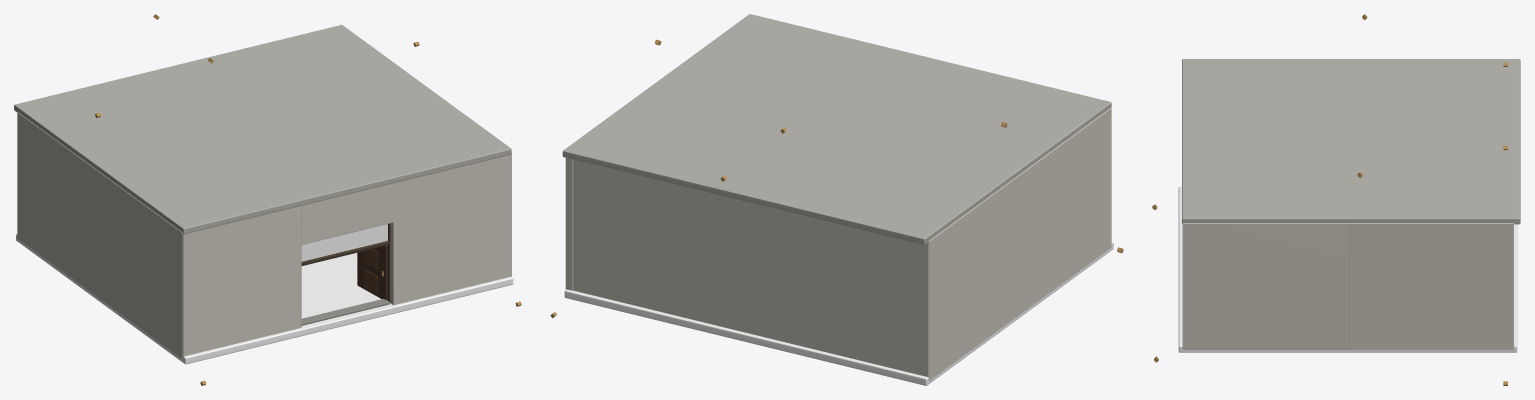
Rendered from RIFKI_Portfolio_Museum.glb.
3 renders of one model, left to right at view 1: azimuth 30°, elevation 25°; view 2: azimuth 150°, elevation 25°; view 3: azimuth 270°, elevation 25°, orthographic. The views are drawn at different scales.
Visible parts, largest first — view 1: Ceiling, Left gallery wall, Front entrance wall | right wing, Front entrance wall | left wing, Gallery floor, Front wall header above entrance, Glazed transom, Open walnut door | right, Stone door threshold, Entrance lintel | over doors; view 2: Ceiling, Rear gallery wall, Left gallery wall, Gallery floor, Right return wall; view 3: Ceiling, Right gallery wall | entrance closure, Right return wall, Gallery floor.
Boxes of the visible parts, x1=… form: Ceiling: x1=14, y1=25, x2=511, y2=234; Left gallery wall: x1=17, y1=112, x2=182, y2=359; Front entrance wall | right wing: x1=390, y1=154, x2=511, y2=305; Front entrance wall | left wing: x1=183, y1=206, x2=301, y2=356; Gallery floor: x1=16, y1=234, x2=513, y2=364; Front wall header above entrance: x1=301, y1=183, x2=393, y2=244; Glazed transom: x1=301, y1=224, x2=387, y2=261; Open walnut door | right: x1=357, y1=245, x2=387, y2=299; Stone door threshold: x1=301, y1=299, x2=390, y2=325; Entrance lintel | over doors: x1=301, y1=241, x2=389, y2=265; Ceiling: x1=562, y1=14, x2=1111, y2=244; Rear gallery wall: x1=573, y1=159, x2=928, y2=377; Left gallery wall: x1=929, y1=107, x2=1111, y2=380; Gallery floor: x1=564, y1=242, x2=1113, y2=385; Right return wall: x1=565, y1=158, x2=573, y2=290; Ceiling: x1=1182, y1=59, x2=1520, y2=224; Right gallery wall | entrance closure: x1=1182, y1=223, x2=1349, y2=349; Right return wall: x1=1349, y1=223, x2=1513, y2=349; Gallery floor: x1=1178, y1=186, x2=1517, y2=352.
Bounding box in the file's own units: 18.14 × 11.14 × 16.75.
